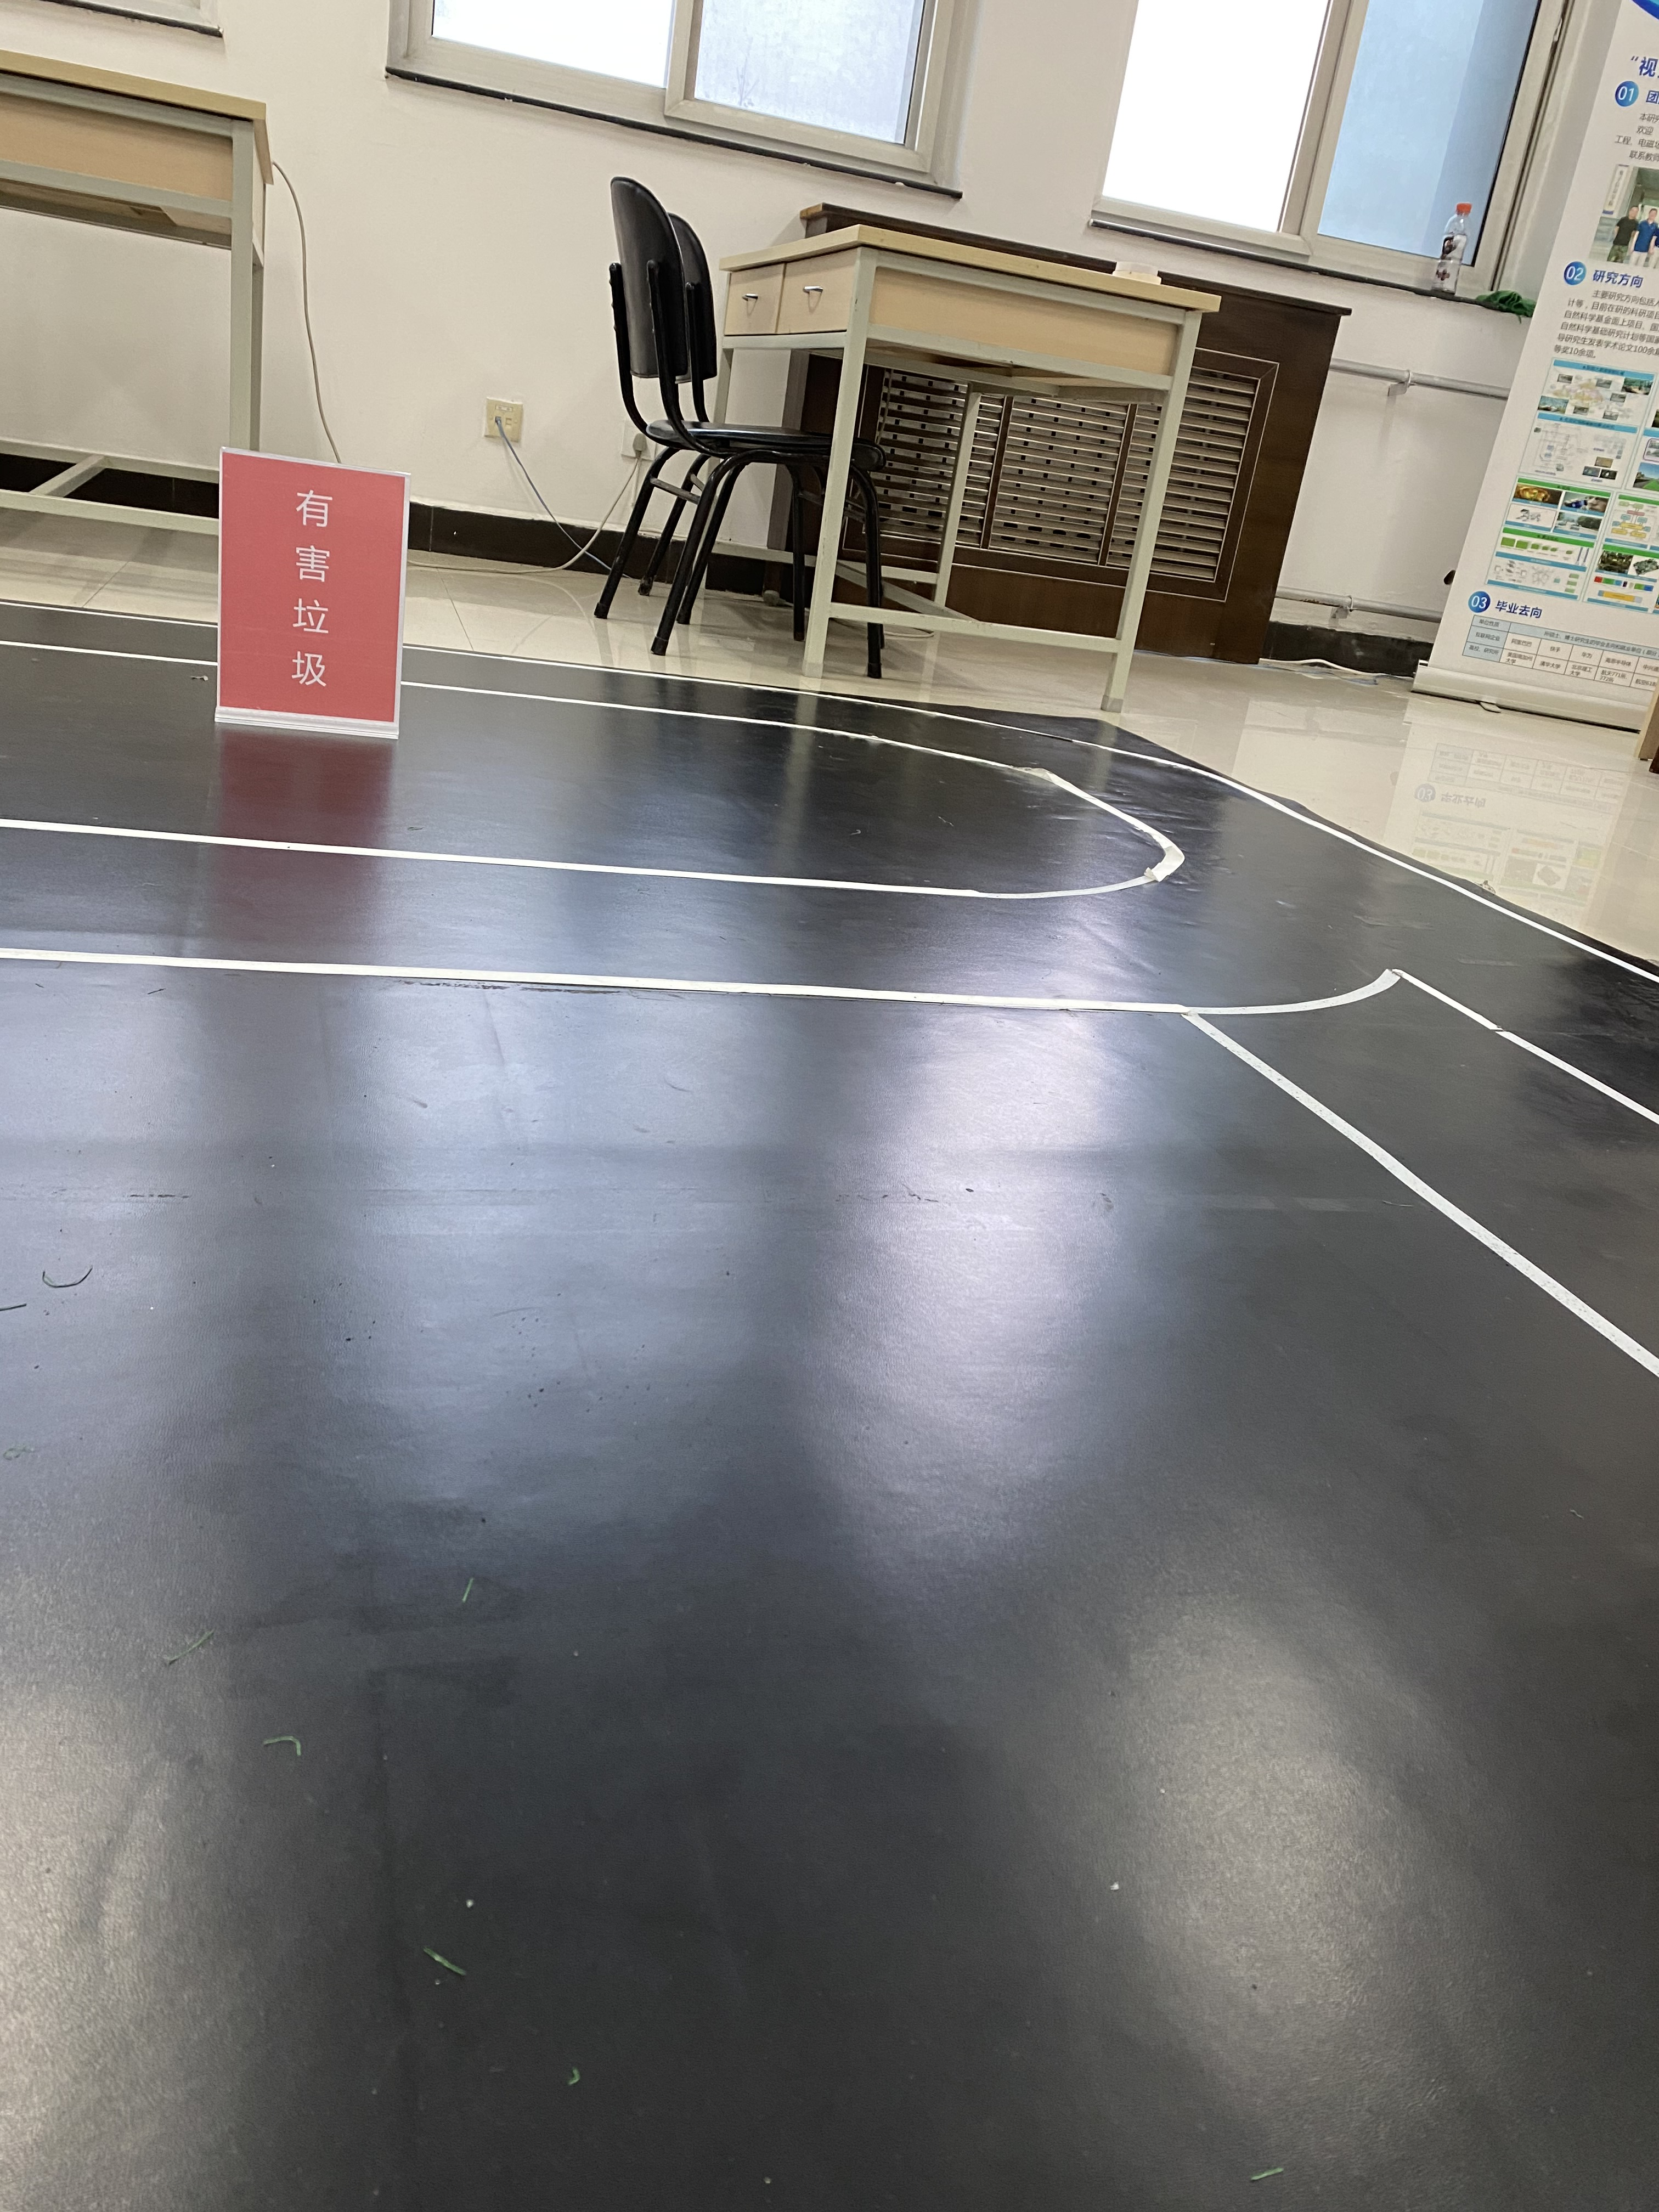red: (244, 475, 389, 702)
